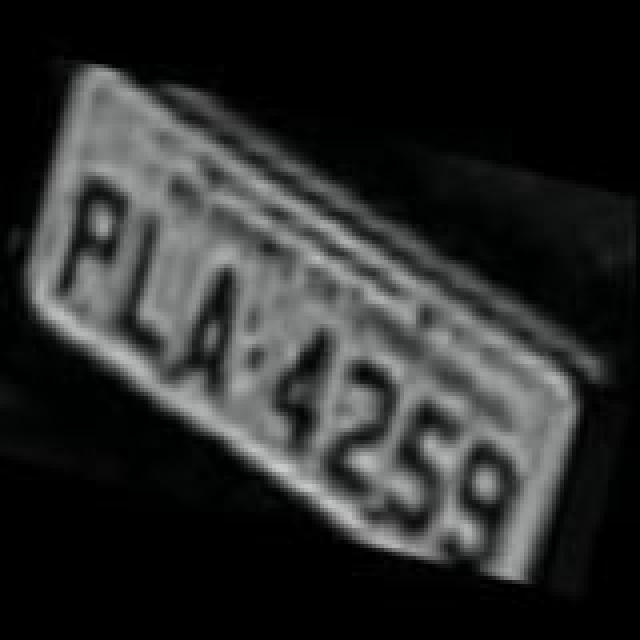2: (314, 350, 410, 506)
4: (250, 310, 346, 466)
5: (376, 392, 472, 544)
9: (430, 432, 526, 576)
A: (162, 252, 262, 404)
L: (104, 204, 200, 364)
P: (48, 172, 144, 320)
